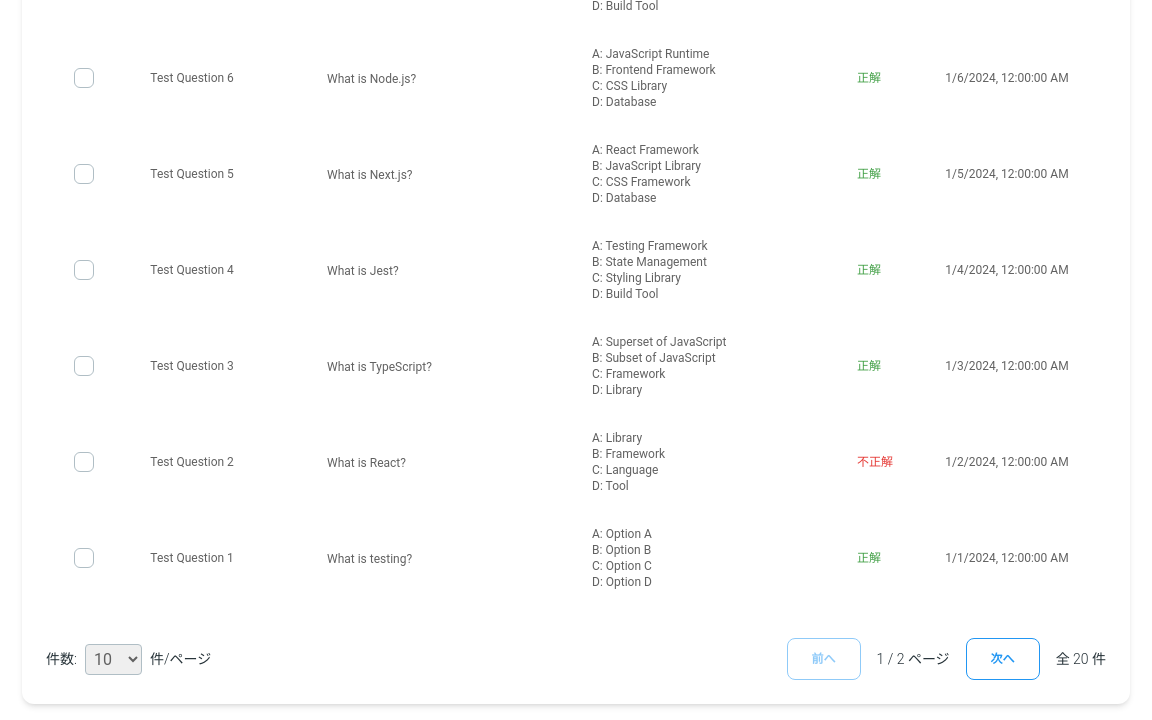
Test: SelectAnswers › 問題文をクリックすると詳細モーダルが開くこと
(page scrolled)
Click the button "What is testing?": (444, 559) [327, 551, 560, 567]
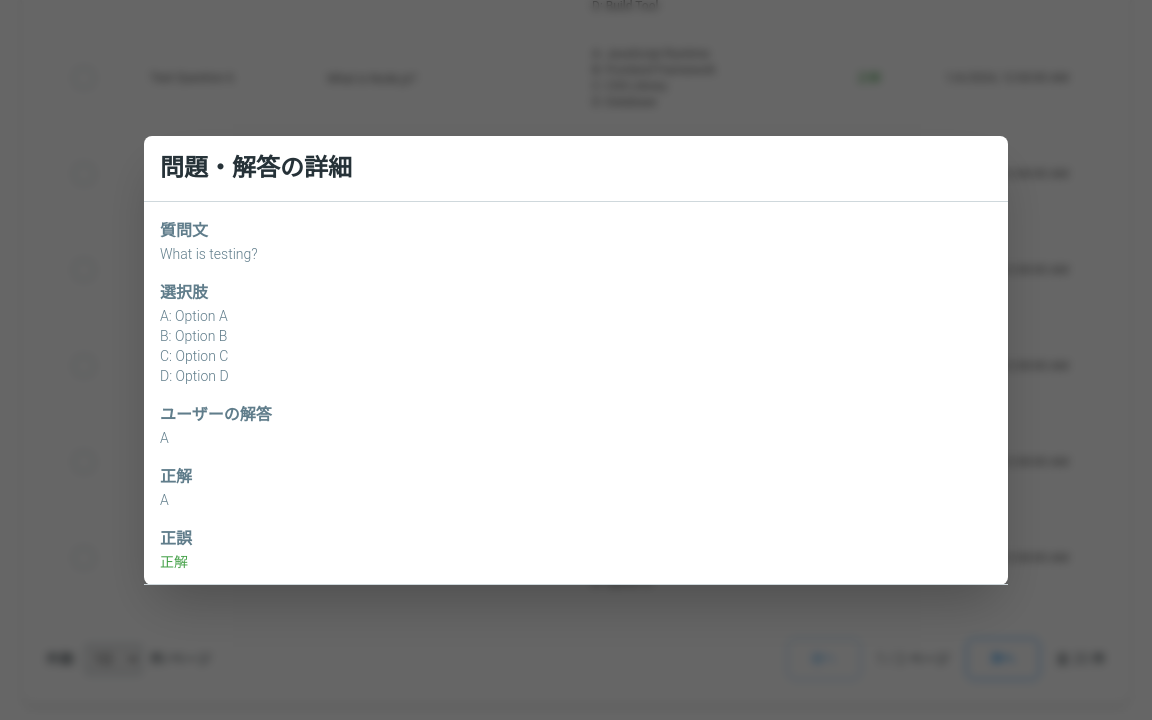
Now the text "問題・解答の詳細" is shown, box [160, 154, 352, 182]
